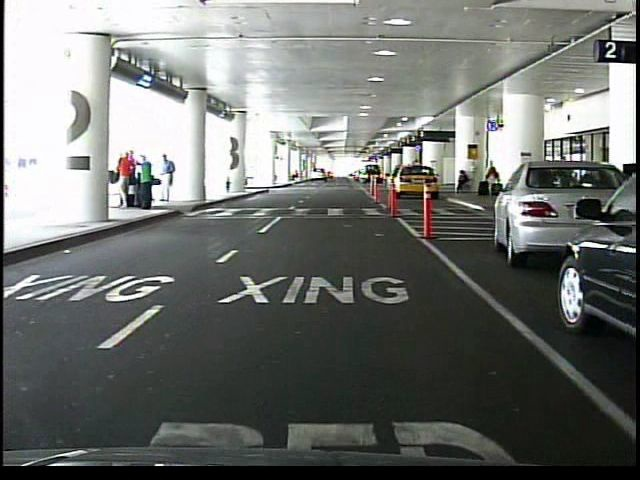person: (139, 154, 157, 211), (161, 154, 178, 204), (121, 150, 135, 207), (484, 161, 497, 197), (453, 171, 469, 196)
